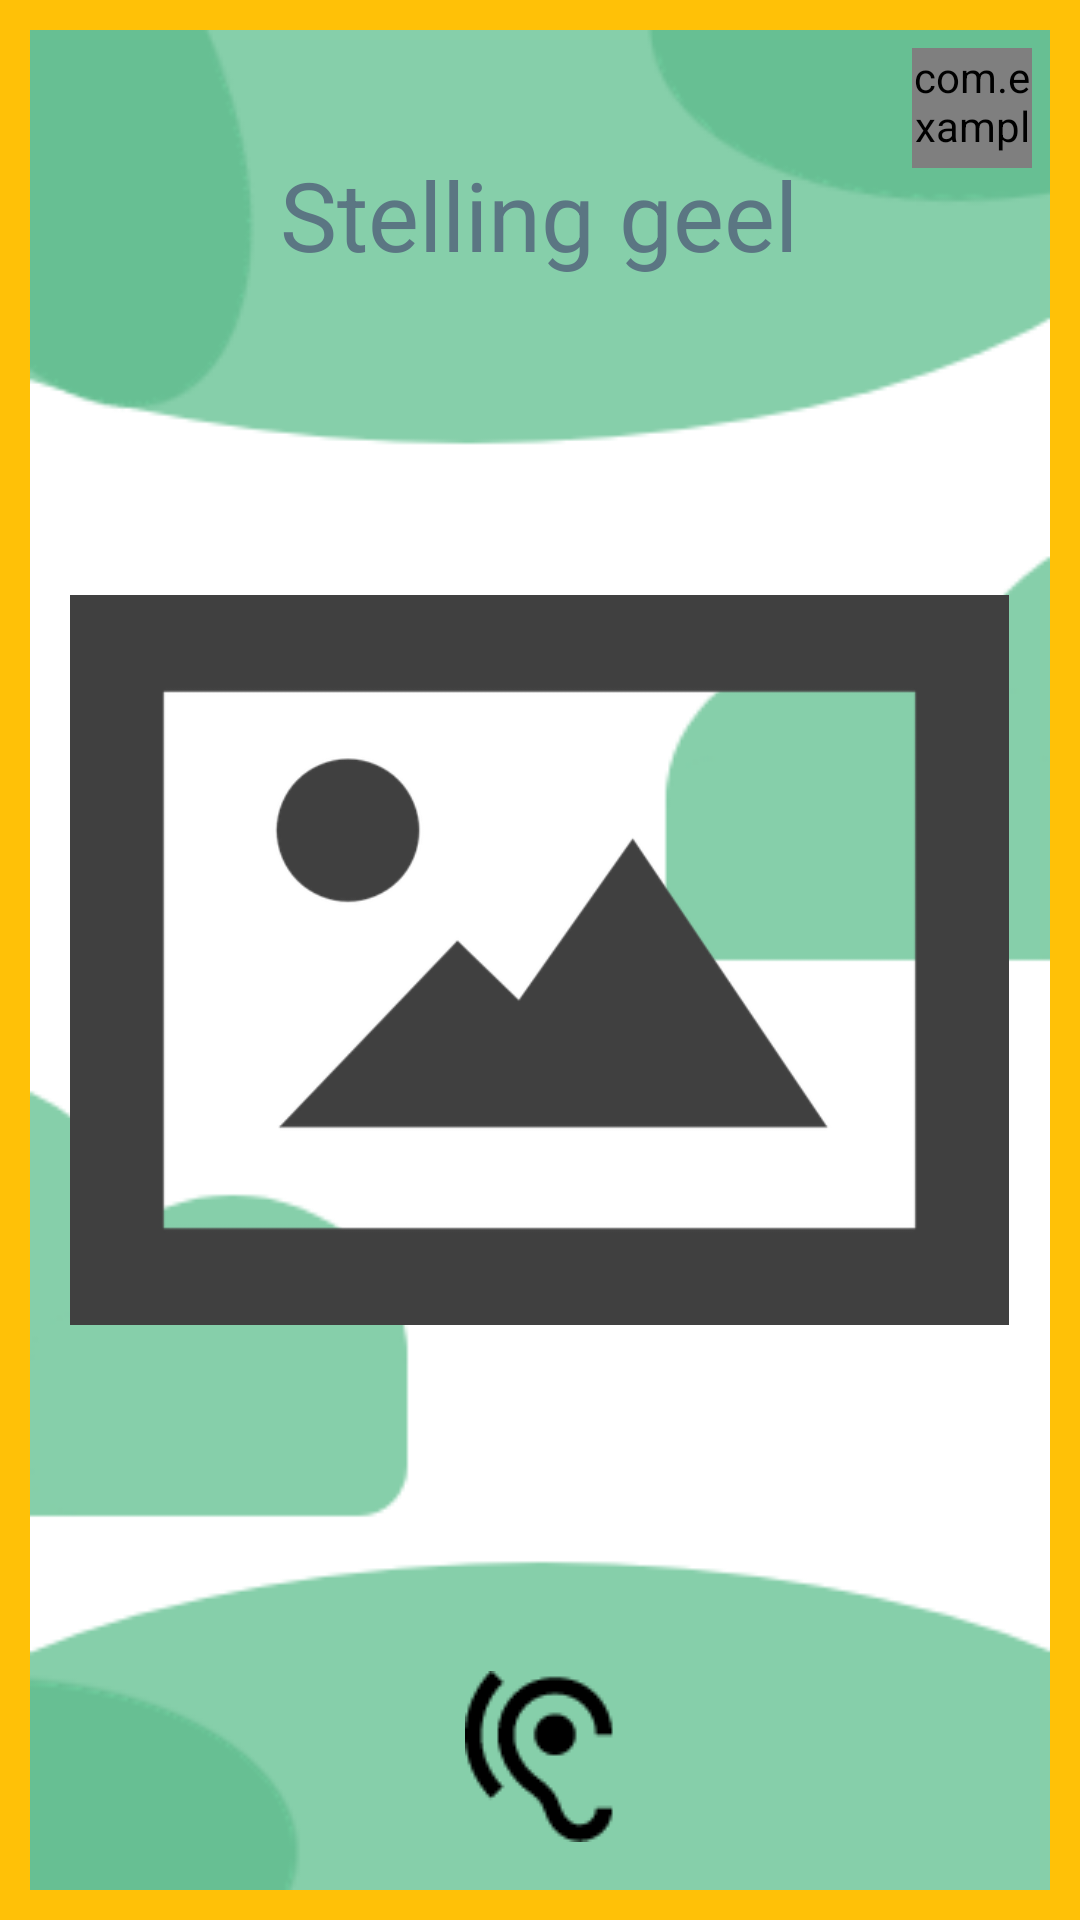

Icon click points for this 1080px×1920px phone screenshot, format point (x, y):
pictogram oortje: point (539, 1756)
